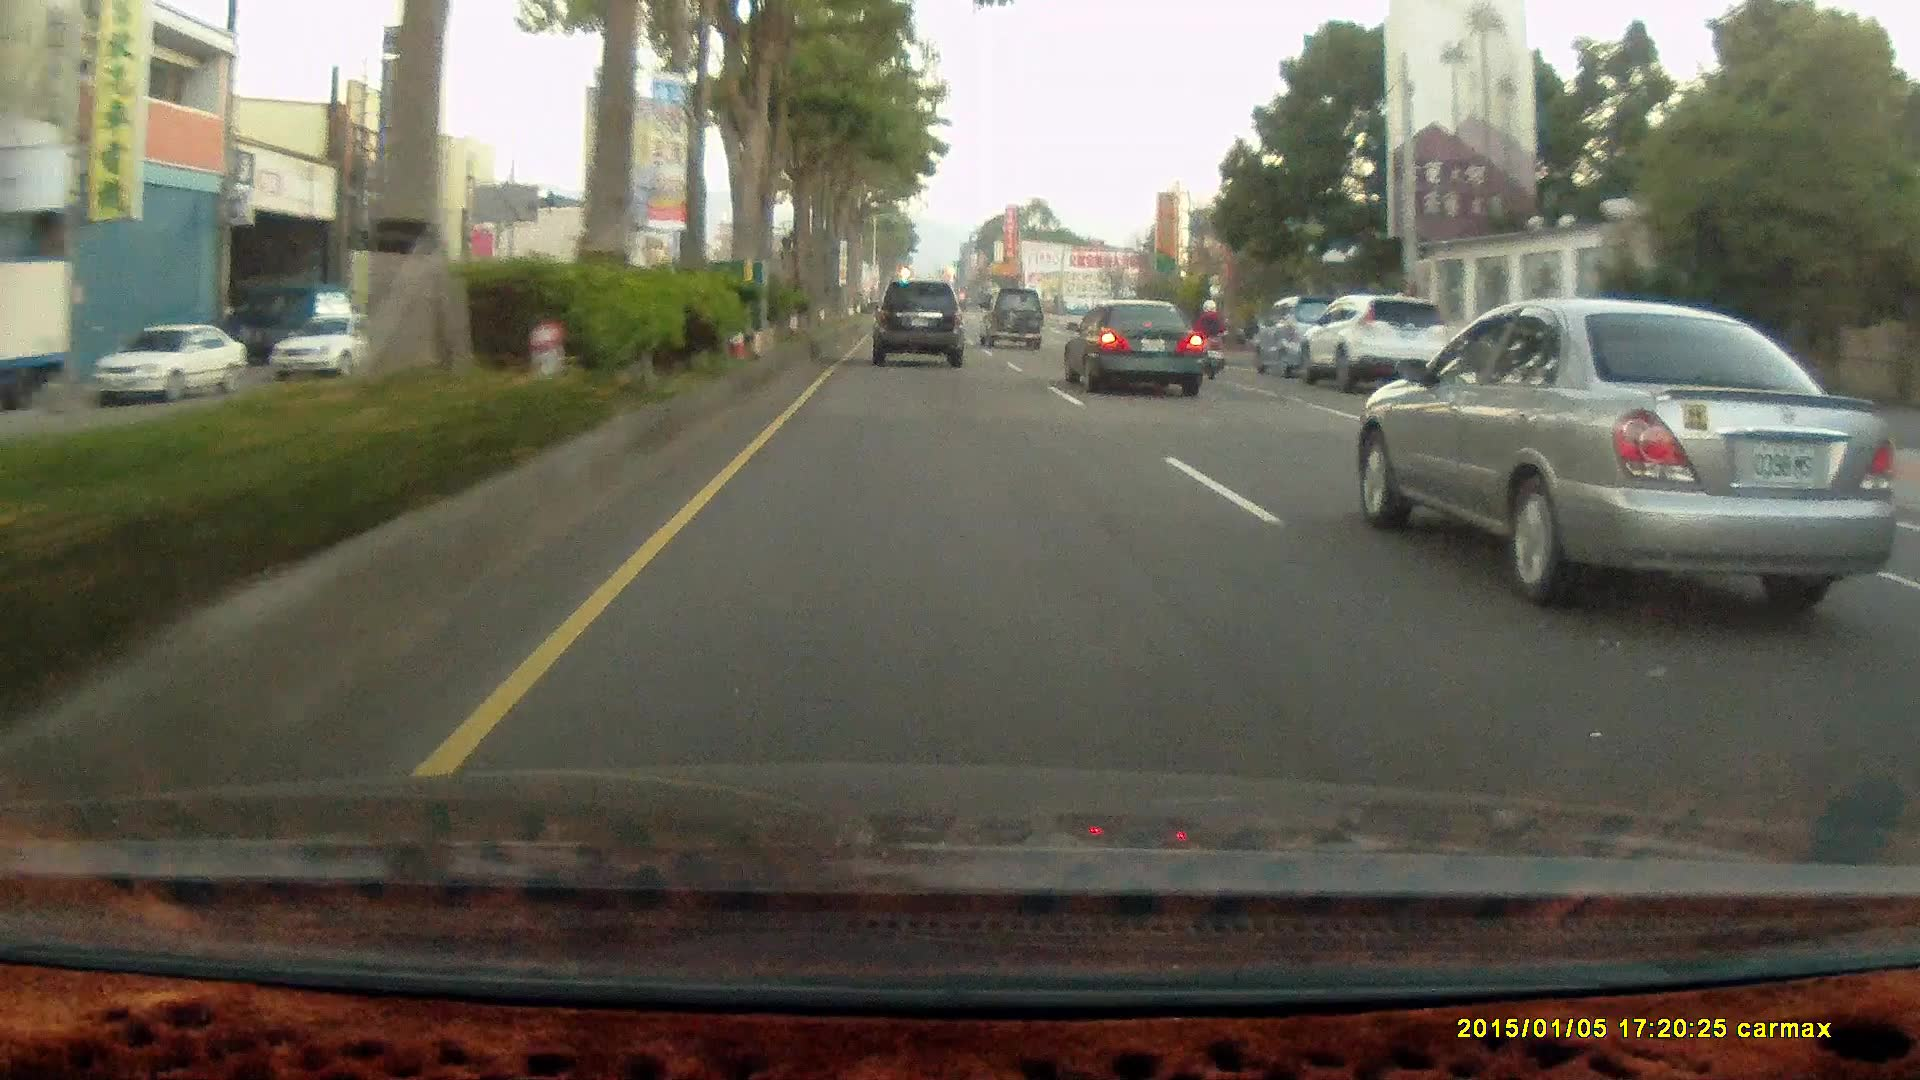rider: (1190, 295, 1228, 378)
vehicle: (1357, 299, 1897, 596), (1296, 294, 1450, 389), (1299, 299, 1452, 393), (1061, 298, 1204, 396), (1065, 299, 1210, 394), (1, 258, 86, 411), (97, 323, 246, 406), (91, 323, 244, 404), (0, 256, 72, 409), (869, 275, 970, 370), (1251, 292, 1361, 376), (867, 280, 963, 369), (273, 317, 399, 383), (981, 287, 1047, 353), (980, 287, 1041, 349)
